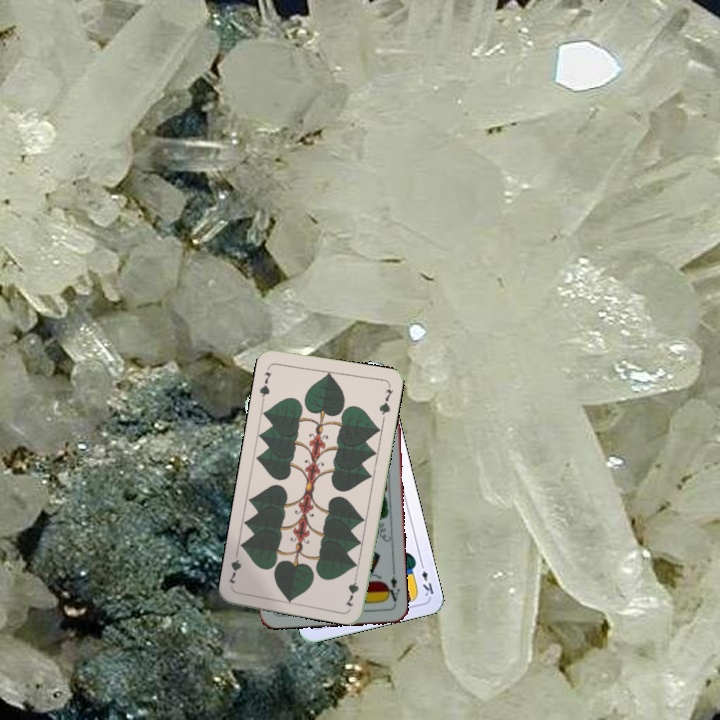EA: (382, 567, 402, 604)
EK: (416, 558, 436, 599)
G7: (341, 569, 361, 609), (255, 363, 274, 403)
